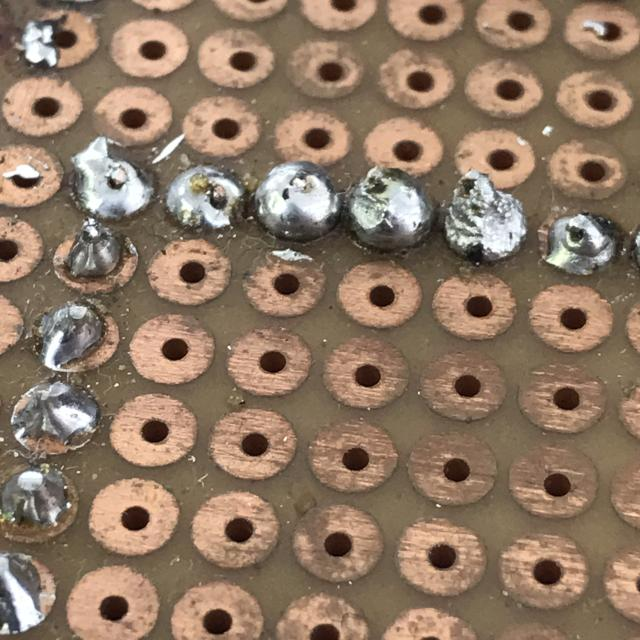excess: (432, 177, 536, 270), (341, 160, 437, 255), (248, 156, 347, 246)
hole: (157, 154, 256, 239), (63, 149, 163, 226)
pad_less: (25, 294, 127, 379), (531, 200, 627, 285), (0, 457, 87, 550), (10, 380, 105, 461), (49, 222, 144, 302)
